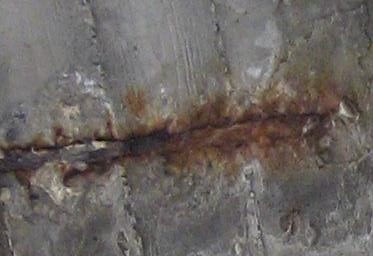Exposed reinforcement: (1, 112, 323, 175)
